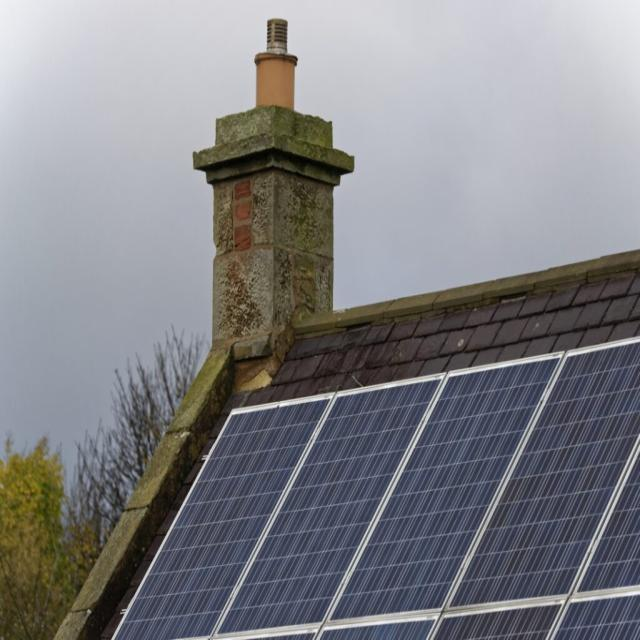clean-solar-panel: (115, 338, 640, 639)
